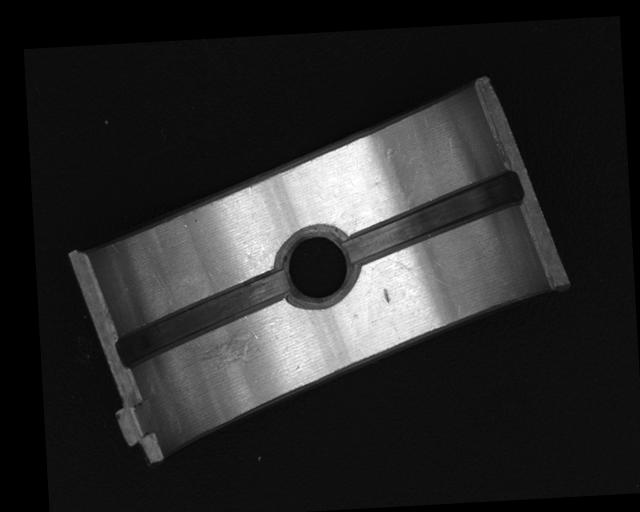bruise: (382, 287, 392, 305)
gap: (113, 268, 292, 368), (344, 172, 523, 262)
hole: (276, 226, 359, 306)
scratch: (177, 314, 275, 371)
